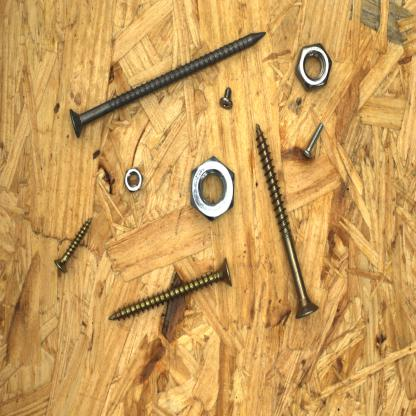screw: (63, 26, 270, 142), (252, 121, 323, 322), (104, 252, 236, 326), (50, 213, 97, 279), (300, 116, 328, 162), (216, 82, 237, 112)
